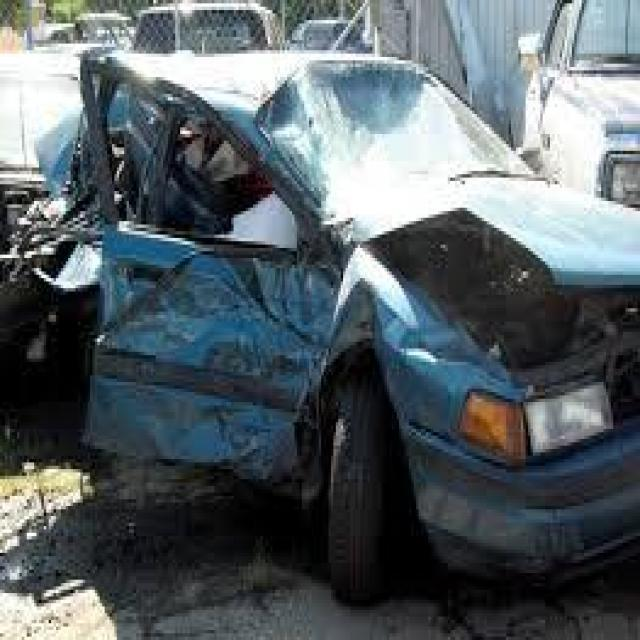damaged: (83, 46, 555, 546)
